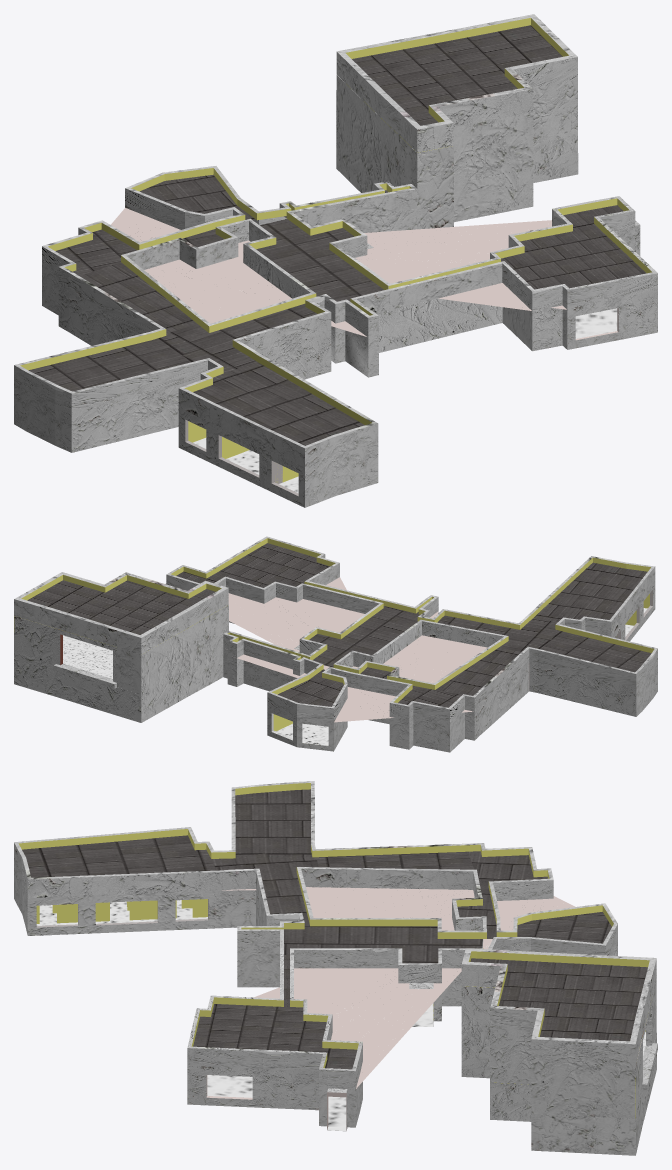
The model's file is school final9.fbx.
3 renders of one model, top to bottom at view 1: azimuth 30°, elevation 25°; view 2: azimuth 150°, elevation 25°; view 3: azimuth 270°, elevation 25°, orthographic. The views are drawn at different scales.
Parts seen in each view (by area): view 1: School; view 2: School; view 3: School.
Boxes of the visible parts, x1,y1,x2,y2 form: School: (14, 14, 657, 507); School: (14, 536, 657, 752); School: (14, 781, 657, 1155).
Bounding box in the file's own units: 425 × 69.98 × 362.
2 materials, 2 textured.
